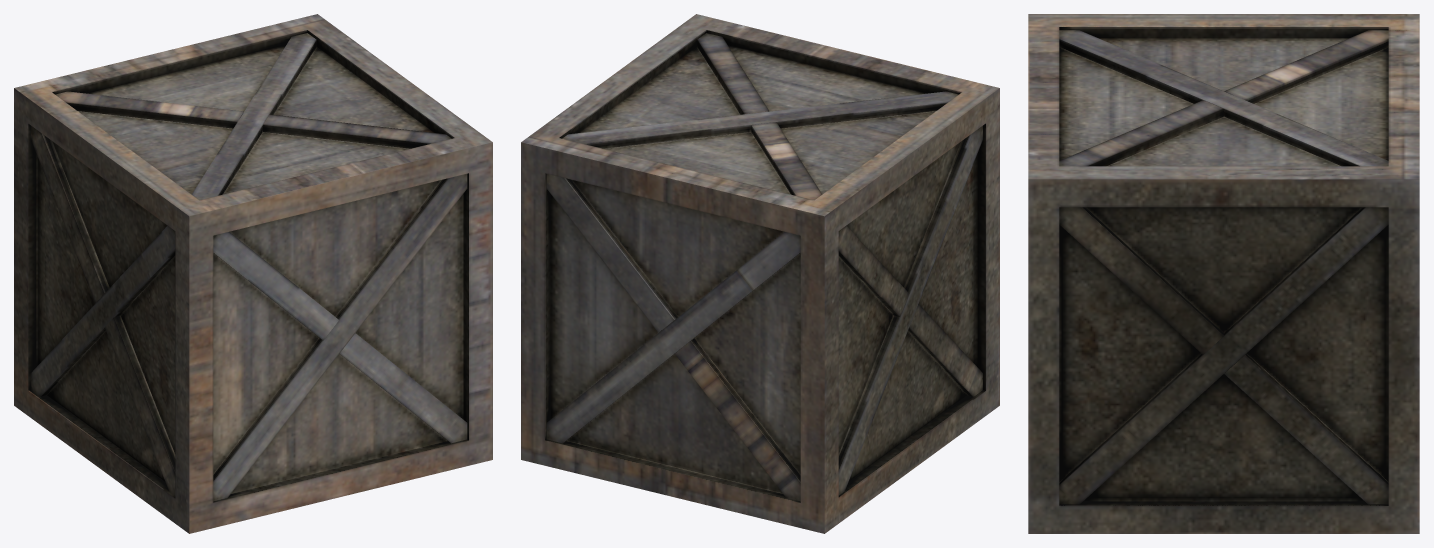
Rendered from Crate_02.FBX.
3 views of the same model, side by side, from view 1: azimuth 30°, elevation 25°; view 2: azimuth 150°, elevation 25°; view 3: azimuth 270°, elevation 25° (orthographic). The views are drawn at different scales.
Visible parts, largest first — view 1: C_02_Unbroken, C_02_Frag03, C_02_Frag06, C_02_Frag01, C_02_Frag07, C_02_Frag02, C_02_Frag08; view 2: C_02_Unbroken, C_02_Frag02, C_02_Frag06, C_02_Frag01, C_02_Frag03, C_02_Frag07, C_02_Frag04; view 3: C_02_Unbroken, C_02_Frag02, C_02_Frag03, C_02_Frag01.
Boxes of the visible parts, box(x1,y1,x2,y2) form: C_02_Unbroken: box(14, 14, 492, 533); C_02_Frag03: box(202, 83, 492, 459); C_02_Frag06: box(14, 88, 158, 421); C_02_Frag01: box(25, 47, 294, 213); C_02_Frag07: box(58, 190, 351, 497); C_02_Frag02: box(160, 15, 418, 97); C_02_Frag08: box(189, 280, 468, 481); C_02_Unbroken: box(521, 14, 999, 533); C_02_Frag02: box(521, 68, 704, 459); C_02_Frag06: box(824, 110, 970, 523); C_02_Frag01: box(651, 88, 999, 214); C_02_Frag03: box(623, 16, 942, 120); C_02_Frag07: box(860, 62, 998, 476); C_02_Frag04: box(545, 209, 800, 502); C_02_Unbroken: box(1028, 14, 1419, 533); C_02_Frag02: box(1031, 89, 1419, 533); C_02_Frag03: box(1028, 27, 1261, 533); C_02_Frag01: box(1029, 14, 1419, 139).
Bounding box in the file's own units: 75.55 × 75.55 × 75.55.
